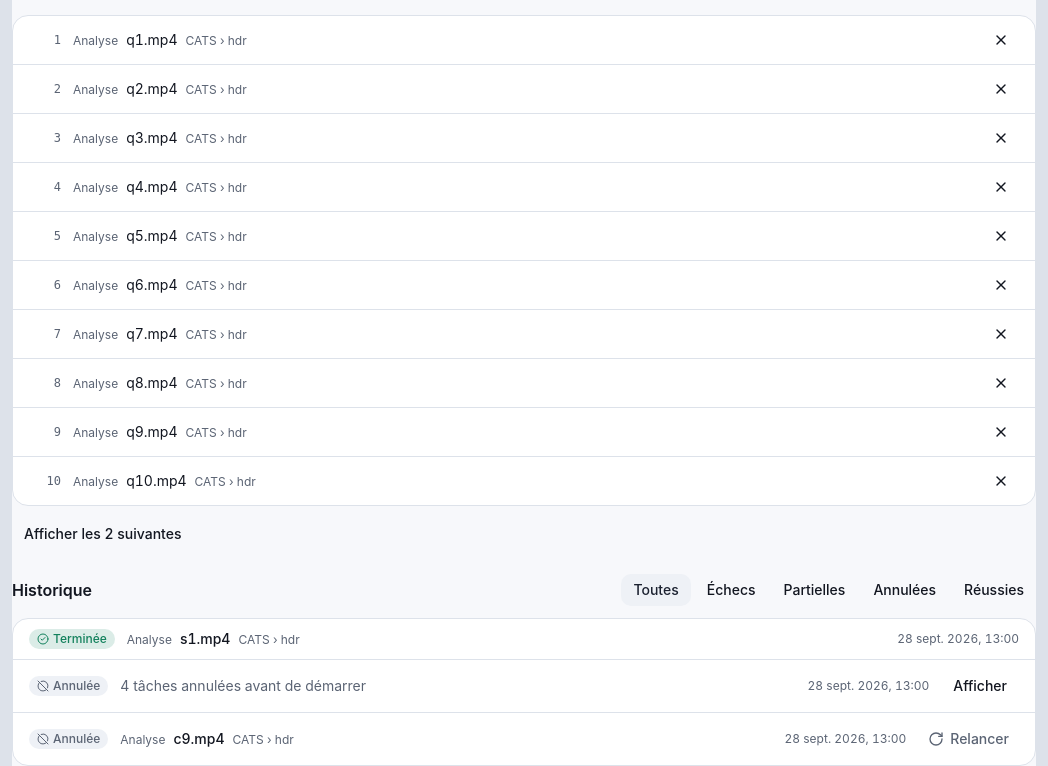
JobsPage › folds a run of tasks cancelled before they started into one row
This screenshot has width=1048, height=766.
(page scrolled)
Expected: the text "4 tâches annulées avant de démarrer" is shown, [120, 677, 366, 694]
Expected: the text "c0.mp4" is not shown
Click the button "Afficher" at (980, 686), box [941, 670, 1019, 702]
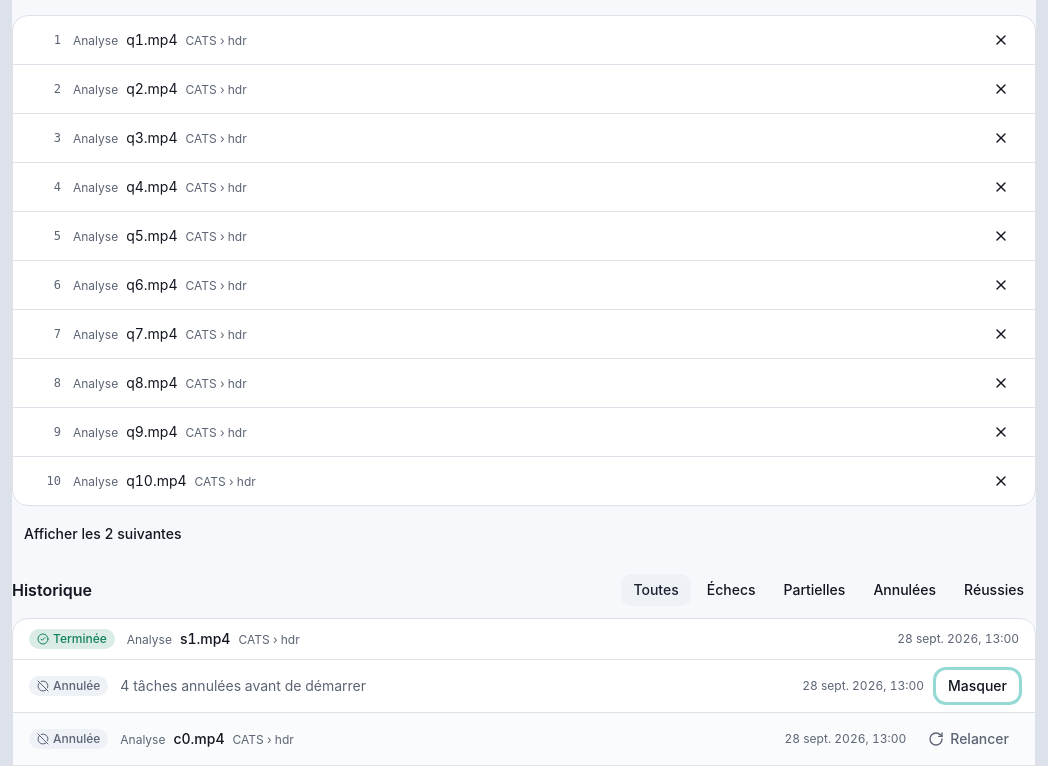
Expected: the link "c0.mp4" is shown, [174, 729, 225, 749]
